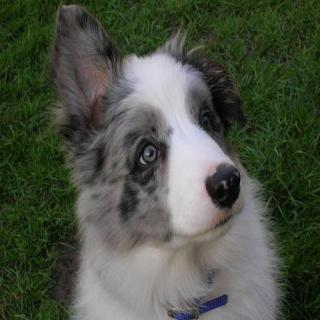dog: (39, 0, 263, 260)
nose: (206, 163, 244, 207)
